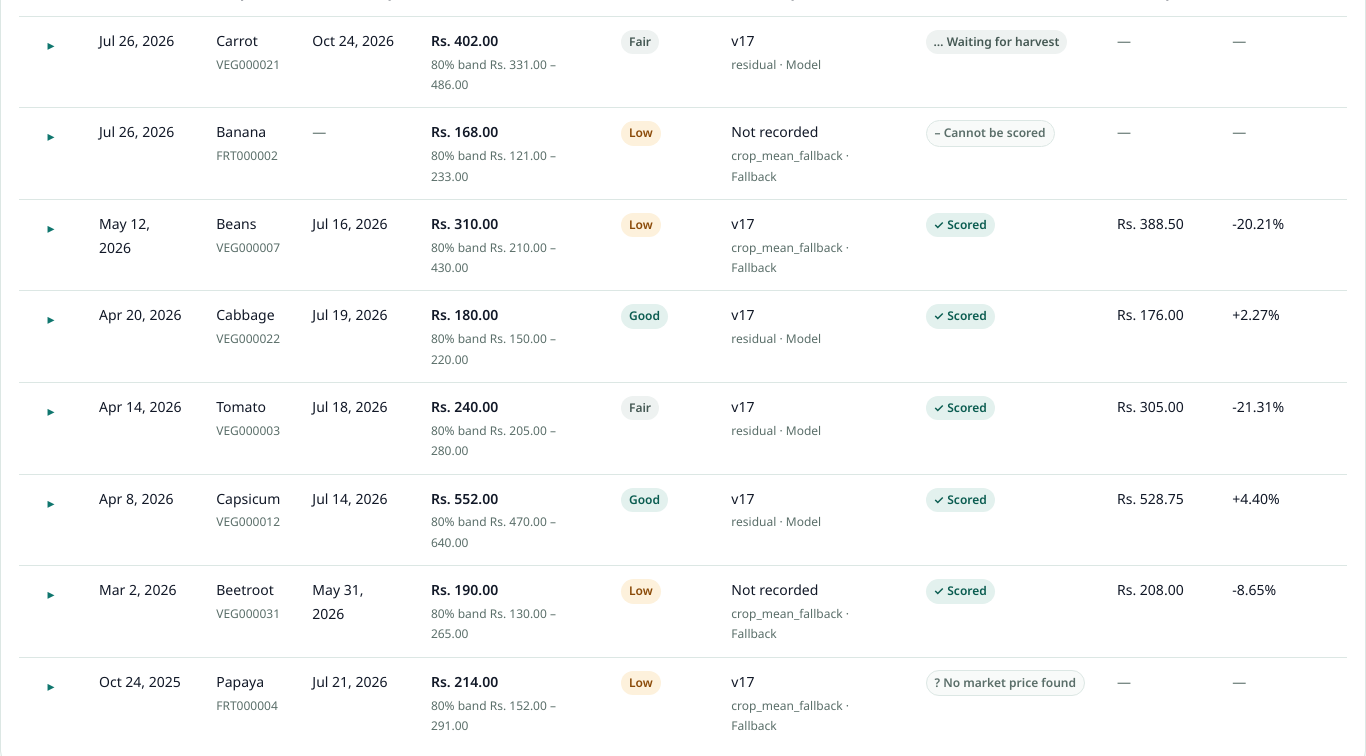
Test case: Forecast accuracy tab — the snapshot ledger › expands a row to reveal how the forecast was made and what it was scored against
(page scrolled)
Click the button named "Show details for Tomato". click: x=51, y=411
box: [35,395,67,427]
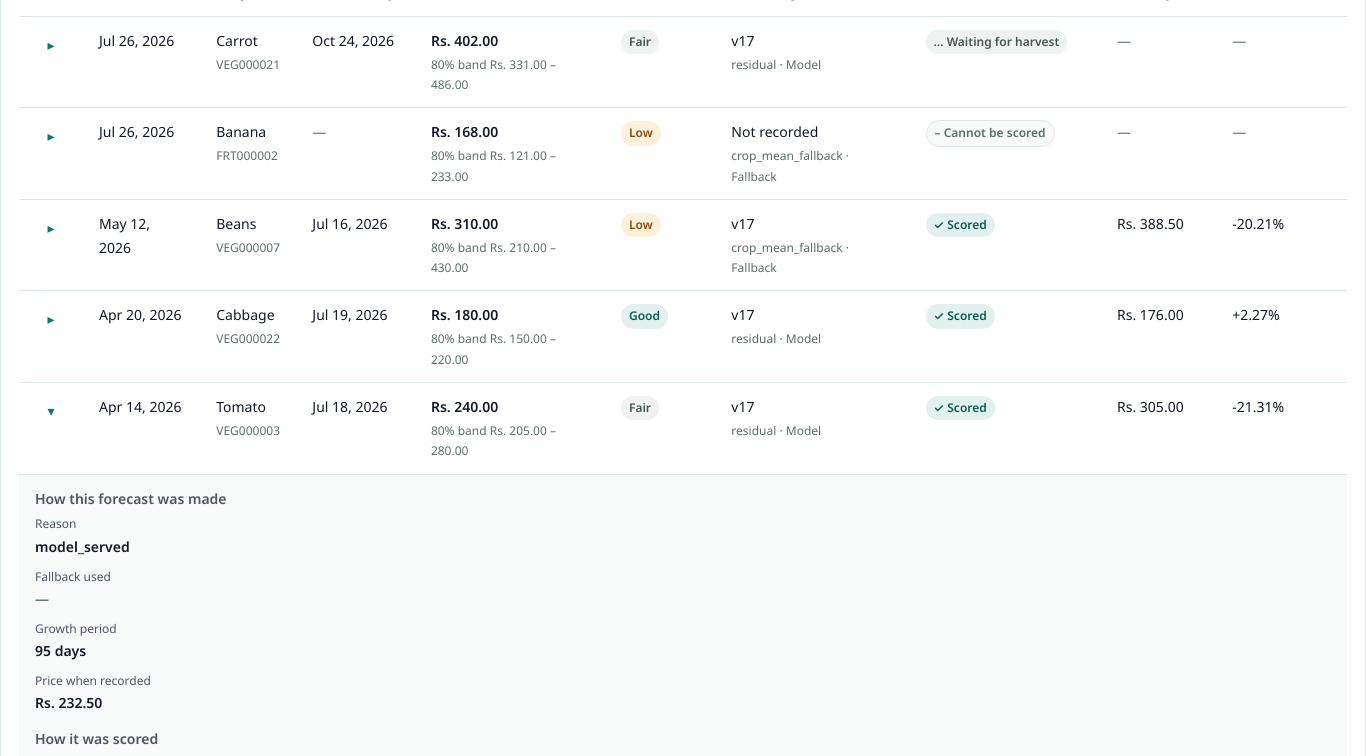
Now the button named "Show details for Tomato" is expanded, box [35,395,67,427]
Now the text "model_served" is shown, box [35,537,130,556]
Now the text "95 days" is shown, box [35,641,86,660]
